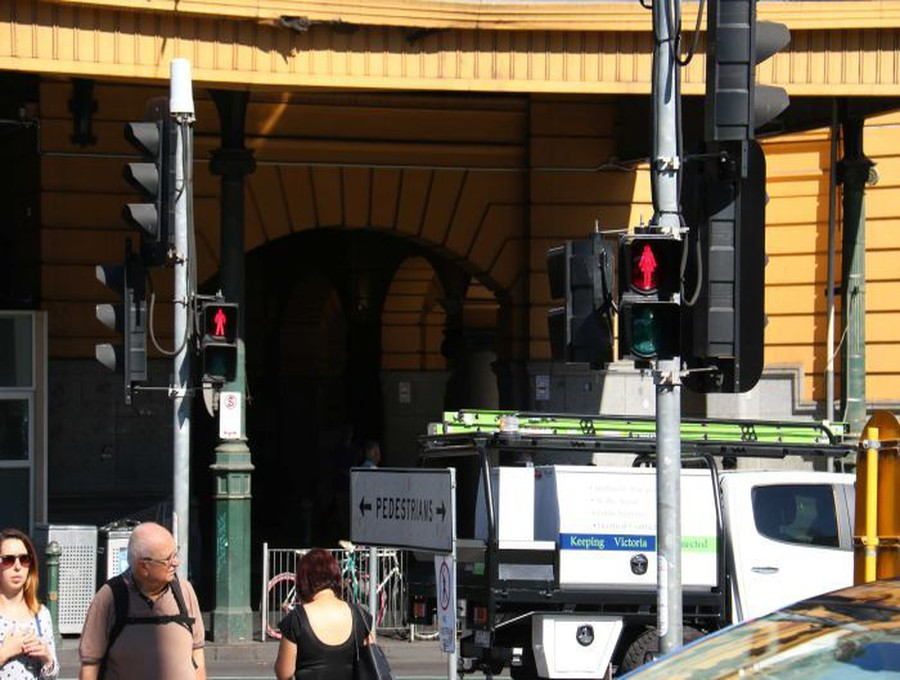Traffic Light-red: (618, 227, 682, 364), (200, 297, 241, 384)
